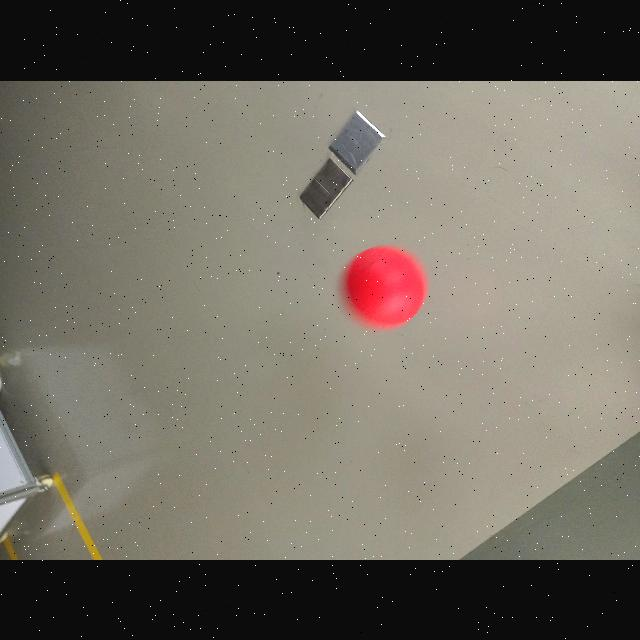R: (340, 241, 428, 327)
